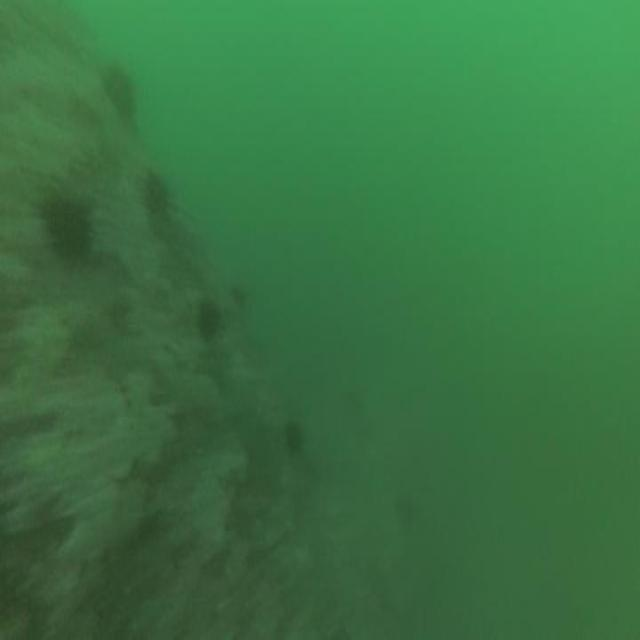echinus: (44, 193, 89, 265), (103, 63, 133, 119), (145, 168, 166, 216), (283, 422, 305, 460), (199, 303, 220, 340)
